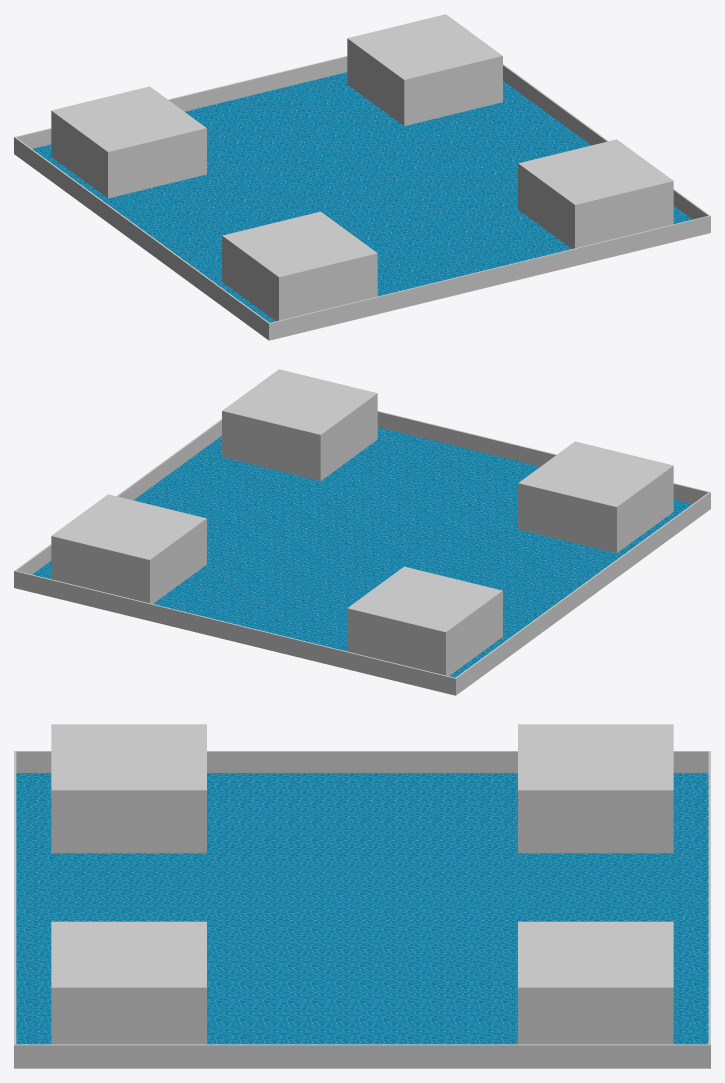
File: mapOne.glb
The picture shows the model from 3 angles, top to bottom: view 1: azimuth 30°, elevation 25°; view 2: azimuth 150°, elevation 25°; view 3: azimuth 270°, elevation 25°; orthographic projection. The views are drawn at different scales.
Parts seen in each view (by area): view 1: SketchUp.002, SketchUp, SketchUp.005, SketchUp.006, SketchUp.003, SketchUp.004, SketchUp.001; view 2: SketchUp.002, SketchUp, SketchUp.004, SketchUp.003, SketchUp.005, SketchUp.006, SketchUp.001; view 3: SketchUp.002, SketchUp.003, SketchUp.006, SketchUp, SketchUp.004, SketchUp.005, SketchUp.001.
Part boxes in pixels (bbox=[...]): SketchUp.002: bbox=[32, 72, 692, 322]; SketchUp: bbox=[14, 56, 710, 340]; SketchUp.005: bbox=[347, 14, 502, 125]; SketchUp.006: bbox=[51, 86, 206, 198]; SketchUp.003: bbox=[222, 211, 377, 321]; SketchUp.004: bbox=[518, 139, 673, 248]; SketchUp.001: bbox=[16, 56, 708, 219]; SketchUp.002: bbox=[32, 427, 692, 677]; SketchUp: bbox=[14, 411, 710, 695]; SketchUp.004: bbox=[222, 369, 377, 480]; SketchUp.003: bbox=[518, 441, 673, 553]; SketchUp.005: bbox=[51, 494, 206, 603]; SketchUp.006: bbox=[347, 566, 502, 676]; SketchUp.001: bbox=[16, 411, 708, 574]; SketchUp.002: bbox=[16, 773, 708, 1044]; SketchUp.003: bbox=[51, 724, 206, 853]; SketchUp.006: bbox=[518, 724, 673, 853]; SketchUp: bbox=[14, 751, 710, 1068]; SketchUp.004: bbox=[51, 921, 206, 1044]; SketchUp.005: bbox=[518, 921, 673, 1044]; SketchUp.001: bbox=[16, 751, 708, 772].
Size of the model in its own units: 30 by 3.1 by 30.
2 materials, 1 textured.
